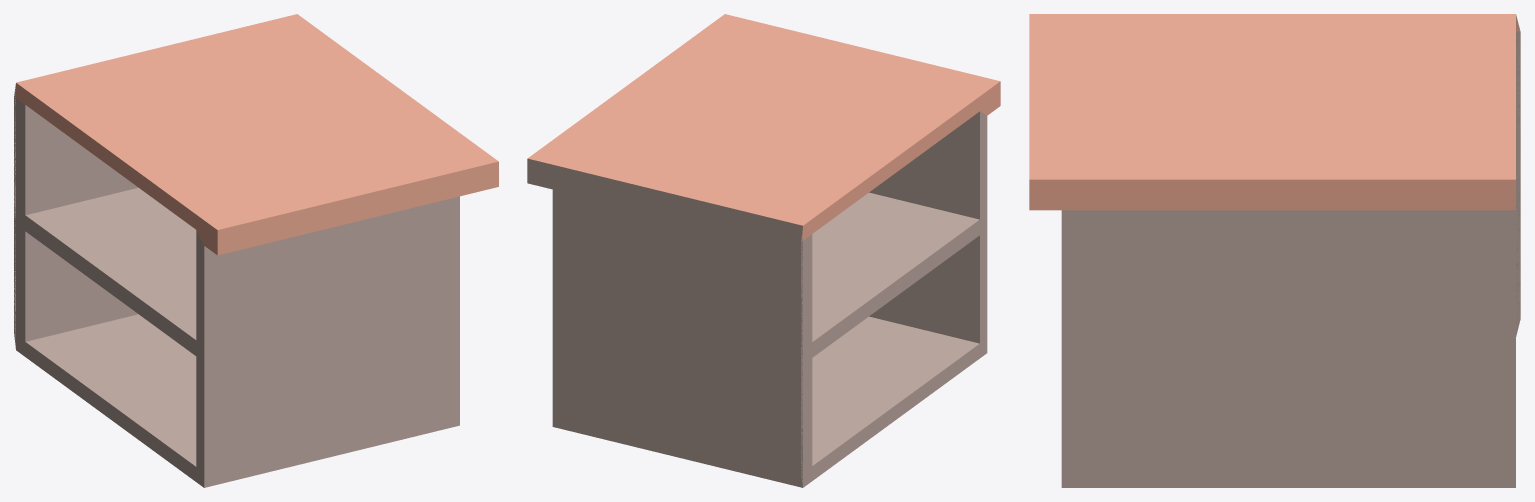
File: edge right.fbx
3 views of the same model, side by side, from view 1: azimuth 30°, elevation 25°; view 2: azimuth 150°, elevation 25°; view 3: azimuth 270°, elevation 25° (orthographic). The views are drawn at different scales.
Visible parts, largest first — view 1: pCube4; view 2: pCube4; view 3: pCube4.
Part boxes in pixels (x1=…): pCube4: x1=14, y1=14, x2=498, y2=487; pCube4: x1=527, y1=14, x2=1000, y2=487; pCube4: x1=1029, y1=14, x2=1520, y2=487.
Size of the model in its own units: 7.76 by 7.05 by 9.72.
